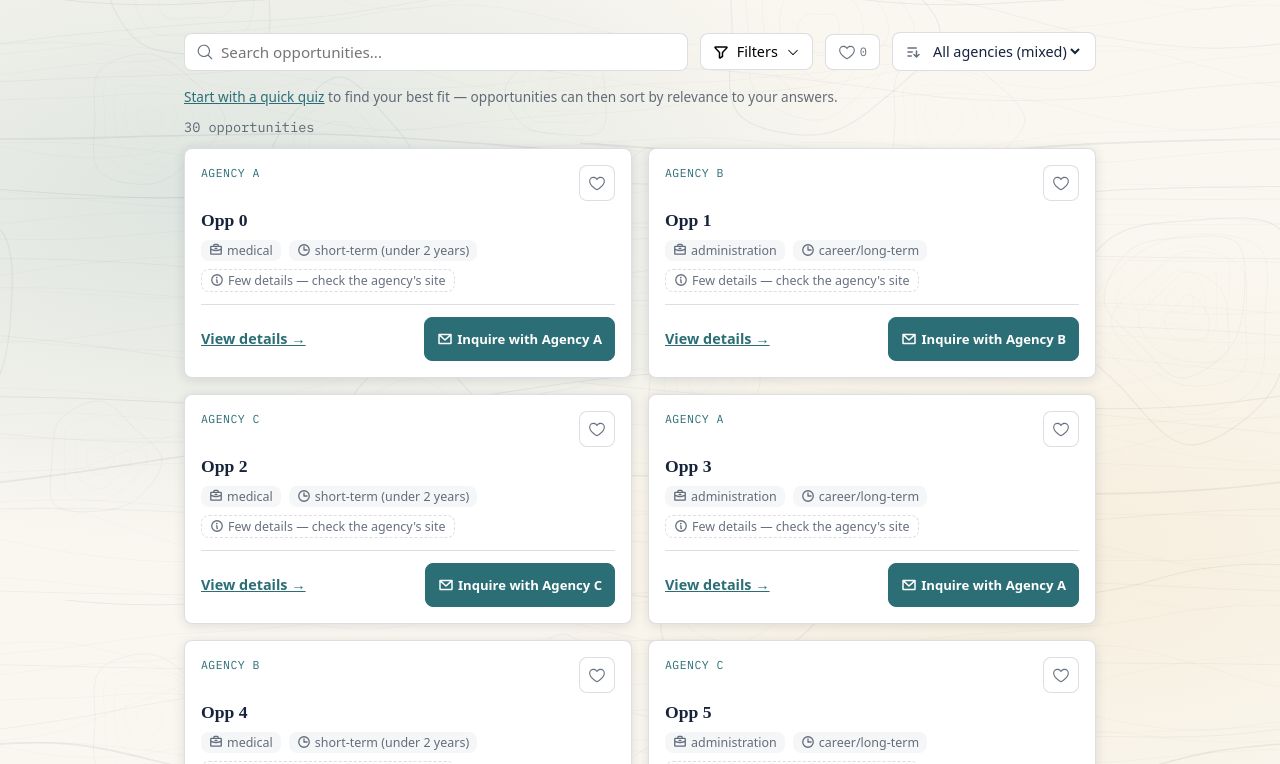
Test case: OpportunitiesExplorer pagination, URL sync, and facet counts › shows facet counts on filter chips reflecting the other active filters
Expected: the heading "Opp 0" is shown, [201,210,248,230]
Click the button "Filters" at (756, 52), box [700,33,813,70]
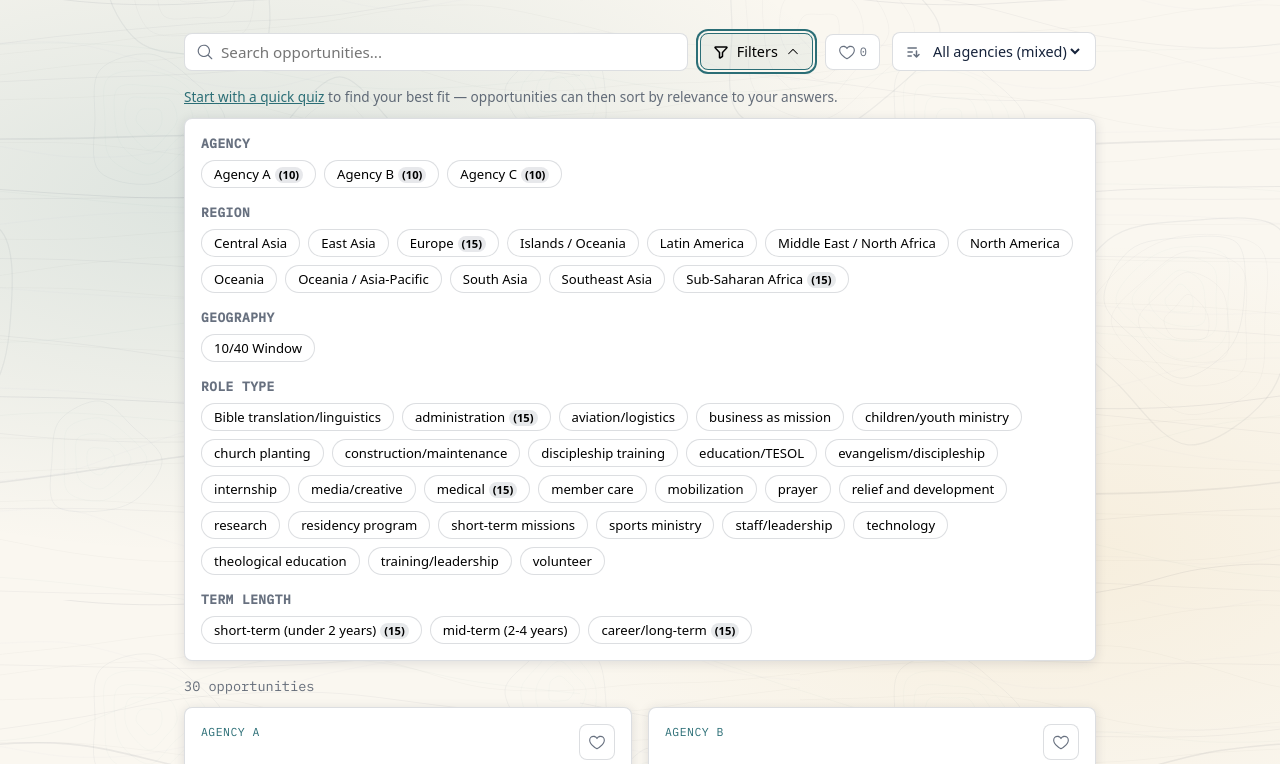
Now the 1st text "(10)" is shown, box [275,166,303,182]
Click the button "Sub-Saharan Africa (15)" at (761, 279), box [673,265,848,293]
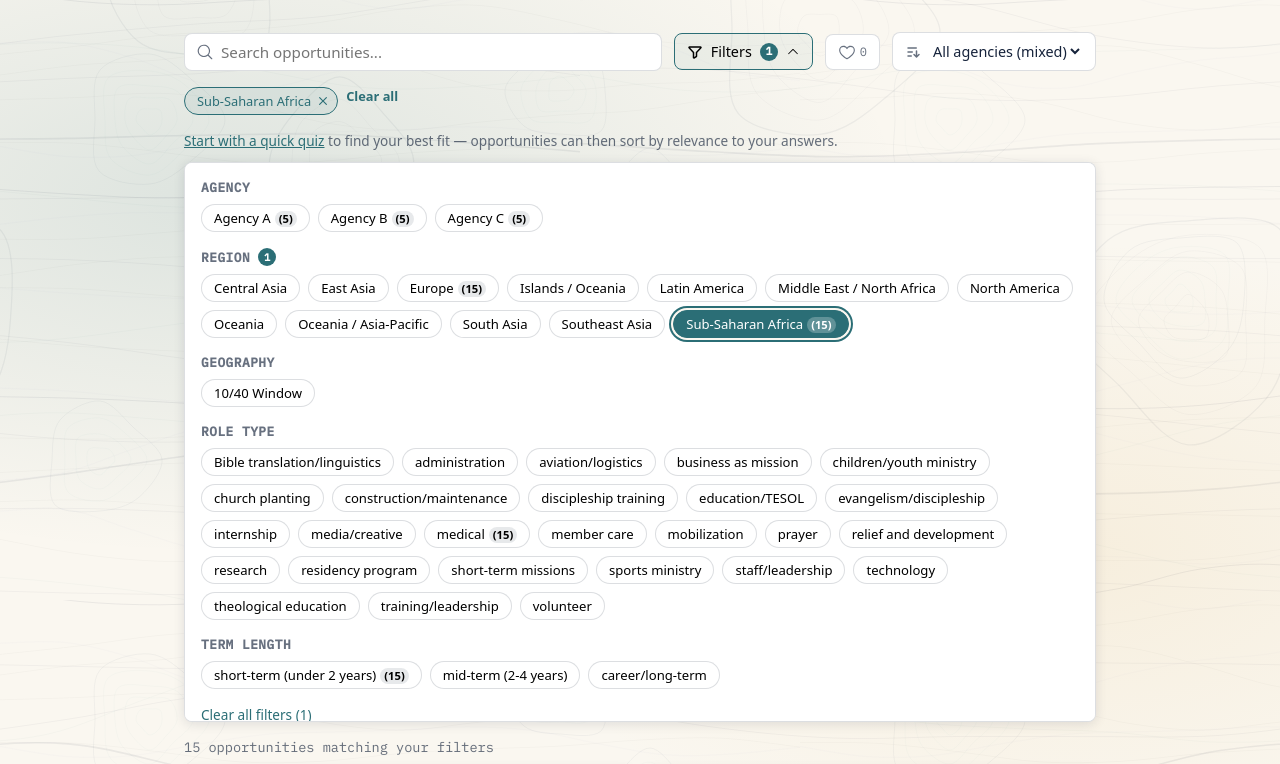
Now the 1st text "(5)" is shown, box [275,210,297,226]
